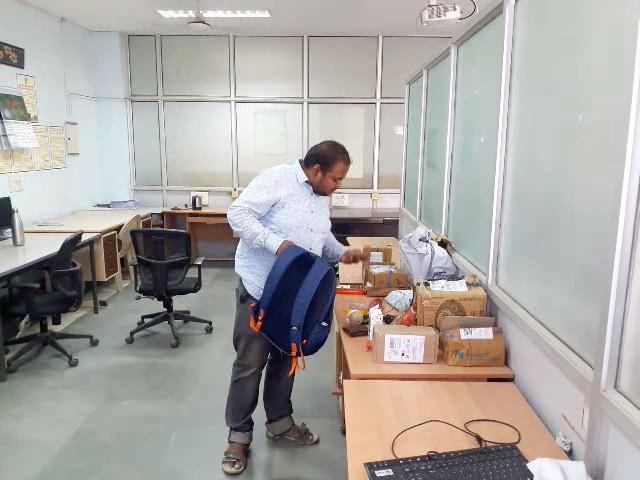shoplifting: (201, 216, 396, 379)
